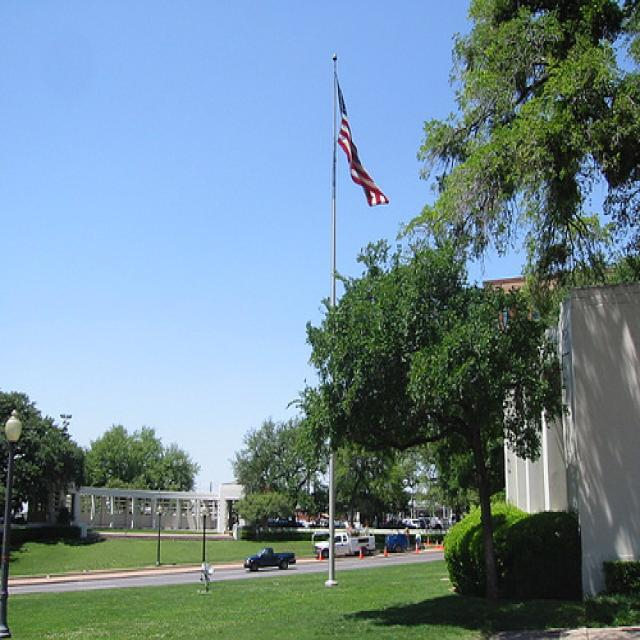car: (312, 532, 375, 559), (243, 547, 297, 571)
